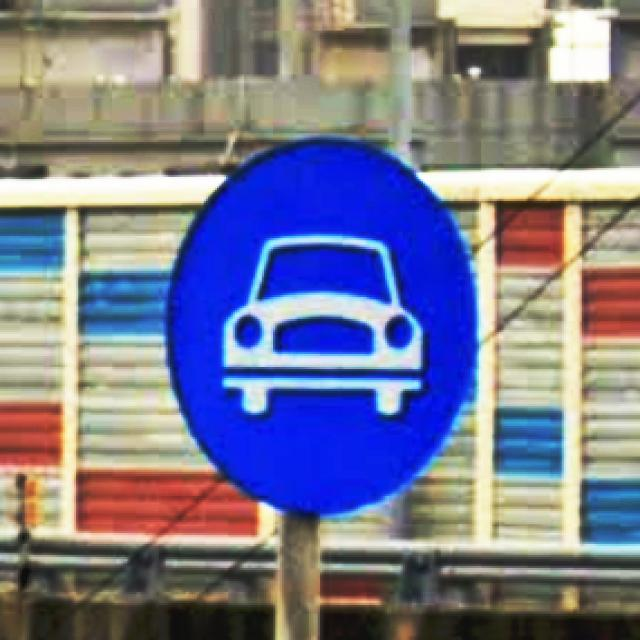car: (161, 133, 481, 518)
